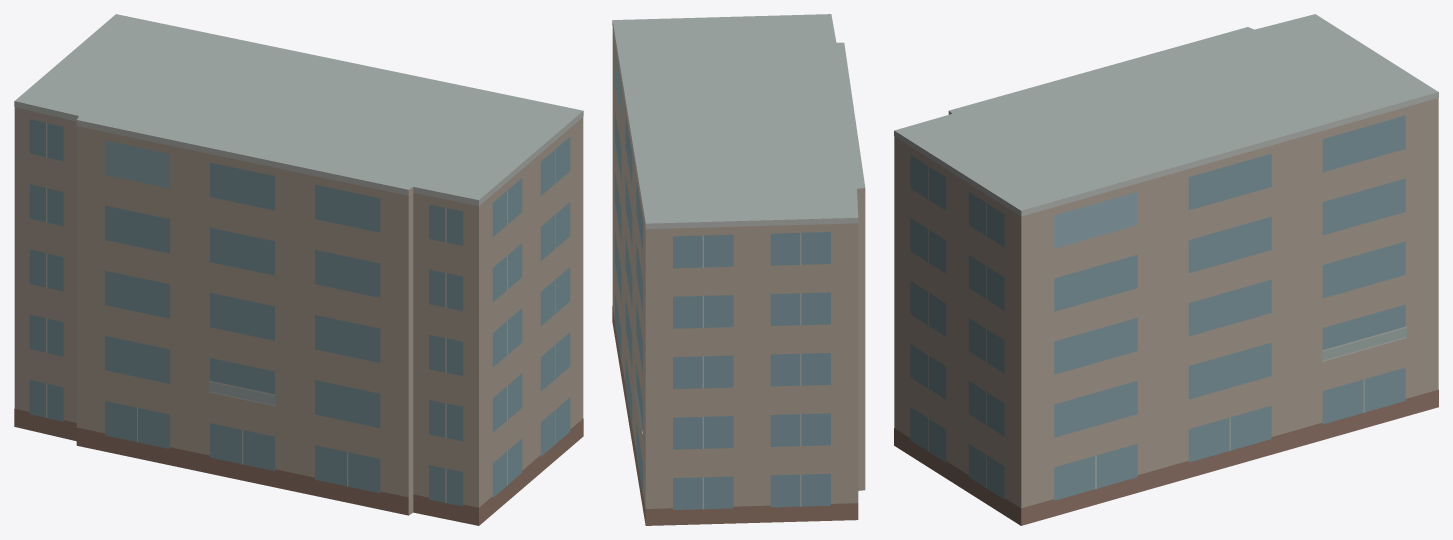
File: survey-upis-32923408.glb
3 views of the same model, side by side, from view 1: azimuth 30°, elevation 25°; view 2: azimuth 150°, elevation 25°; view 3: azimuth 270°, elevation 25° (orthographic). The views are drawn at different scales.
Visible parts, largest first — view 1: survey-upis-32923408.tmp; view 2: survey-upis-32923408.tmp; view 3: survey-upis-32923408.tmp.
Part boxes in pixels (box(x1,y1,x2,y2)): survey-upis-32923408.tmp: box(14, 14, 583, 525); survey-upis-32923408.tmp: box(612, 14, 865, 525); survey-upis-32923408.tmp: box(894, 14, 1438, 525).
Size of the model in its own units: 17.76 by 13.25 by 20.77.
